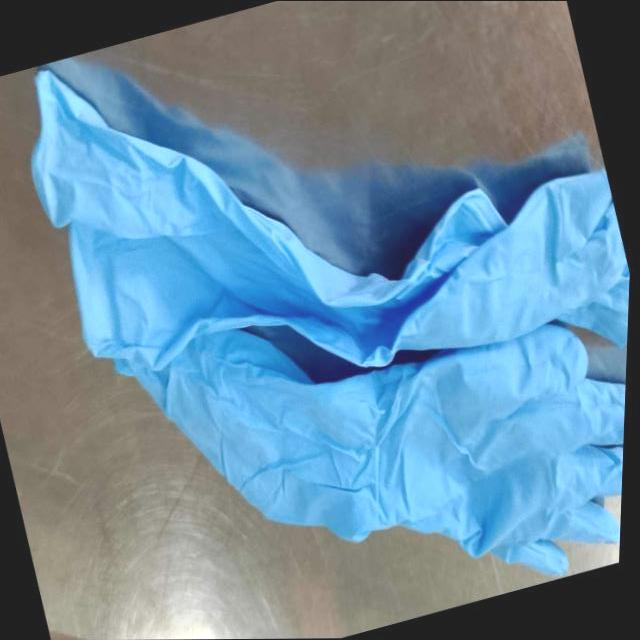General: (28, 58, 627, 576)
